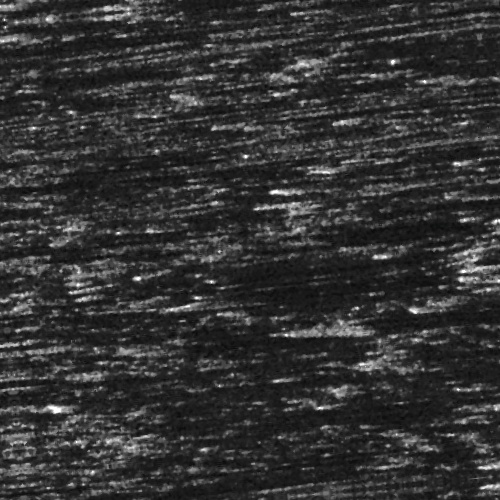object: (293, 360, 438, 379), (0, 3, 130, 20), (444, 419, 500, 432), (307, 63, 360, 72), (302, 332, 365, 339), (20, 476, 61, 481), (475, 285, 500, 290), (19, 383, 40, 388)
shadow: (47, 3, 500, 20), (0, 14, 160, 41), (366, 360, 500, 379), (333, 63, 500, 72), (0, 13, 99, 22), (333, 332, 431, 339), (0, 370, 69, 379), (30, 383, 121, 388), (41, 476, 130, 481), (0, 225, 55, 232)
